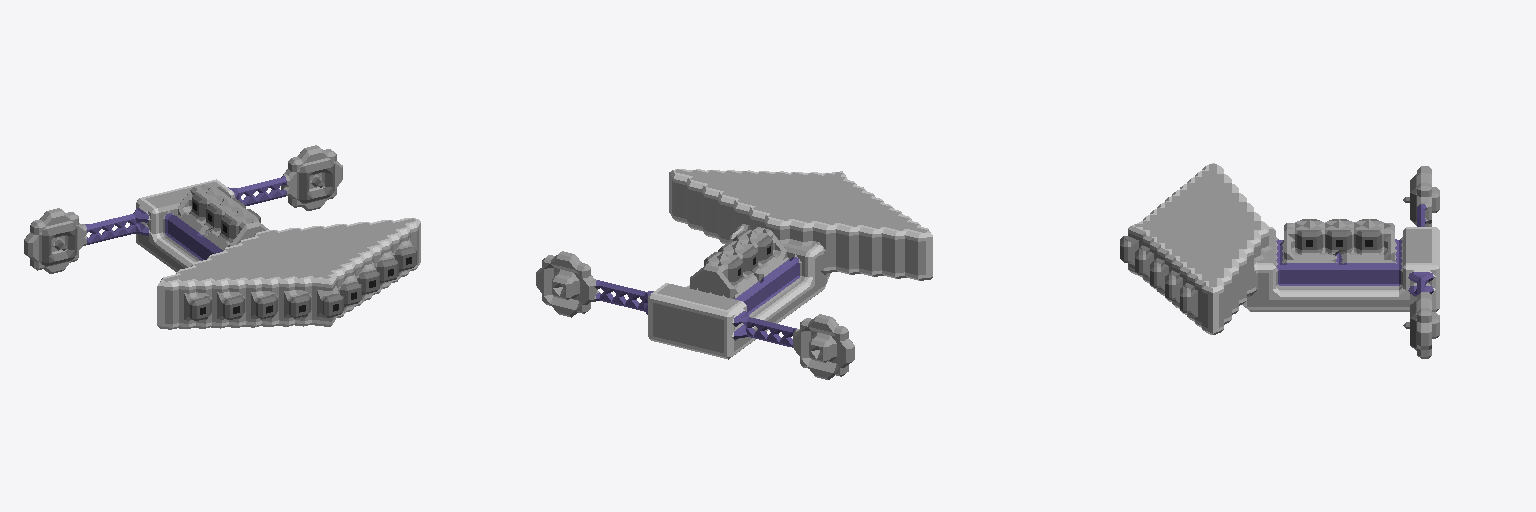
3 views of the same model, side by side, from view 1: azimuth 30°, elevation 25°; view 2: azimuth 150°, elevation 25°; view 3: azimuth 270°, elevation 25° (orthographic).
Size of the model in its own units: 49 by 11 by 43.
1 materials, 1 textured.